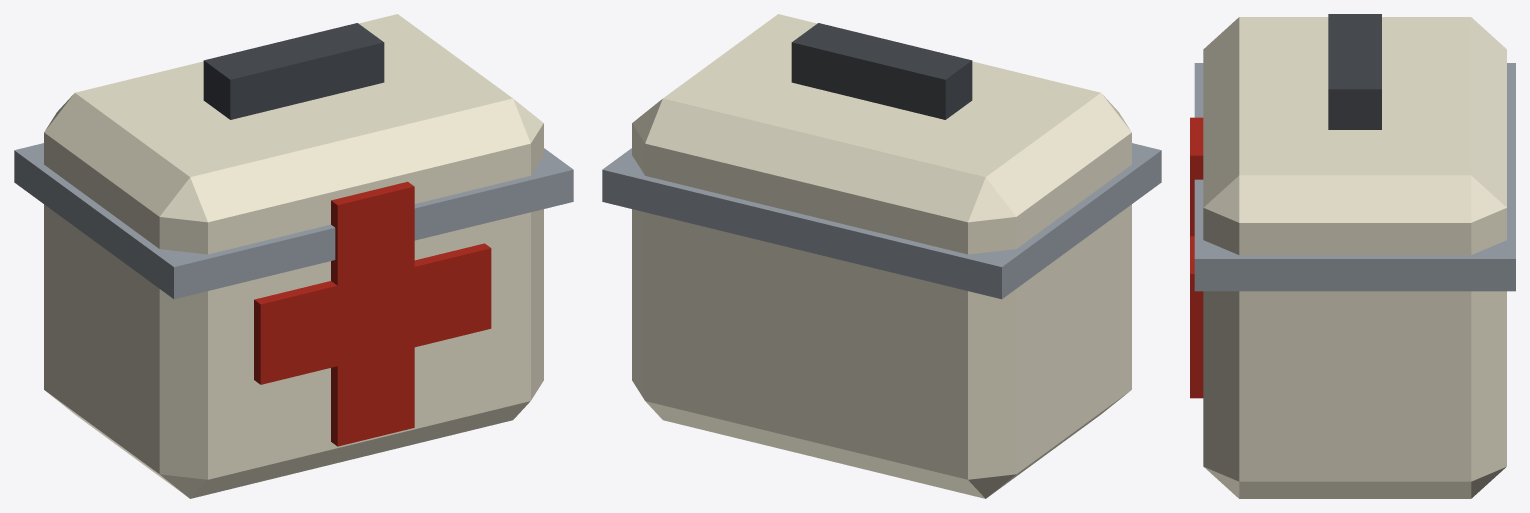
The model's file is pk_health.glb.
The picture shows the model from 3 angles, left to right: view 1: azimuth 30°, elevation 25°; view 2: azimuth 150°, elevation 25°; view 3: azimuth 270°, elevation 25°; orthographic projection.
Visible parts, largest first — view 1: kit; view 2: kit; view 3: kit.
Part boxes in pixels (left/top/right/bottom): kit: left=14, top=14, right=573, bottom=498; kit: left=602, top=14, right=1161, bottom=498; kit: left=1190, top=14, right=1515, bottom=498.
Bounding box in the file's own units: 0.52 × 0.455 × 0.365.
1 material, 1 textured.
